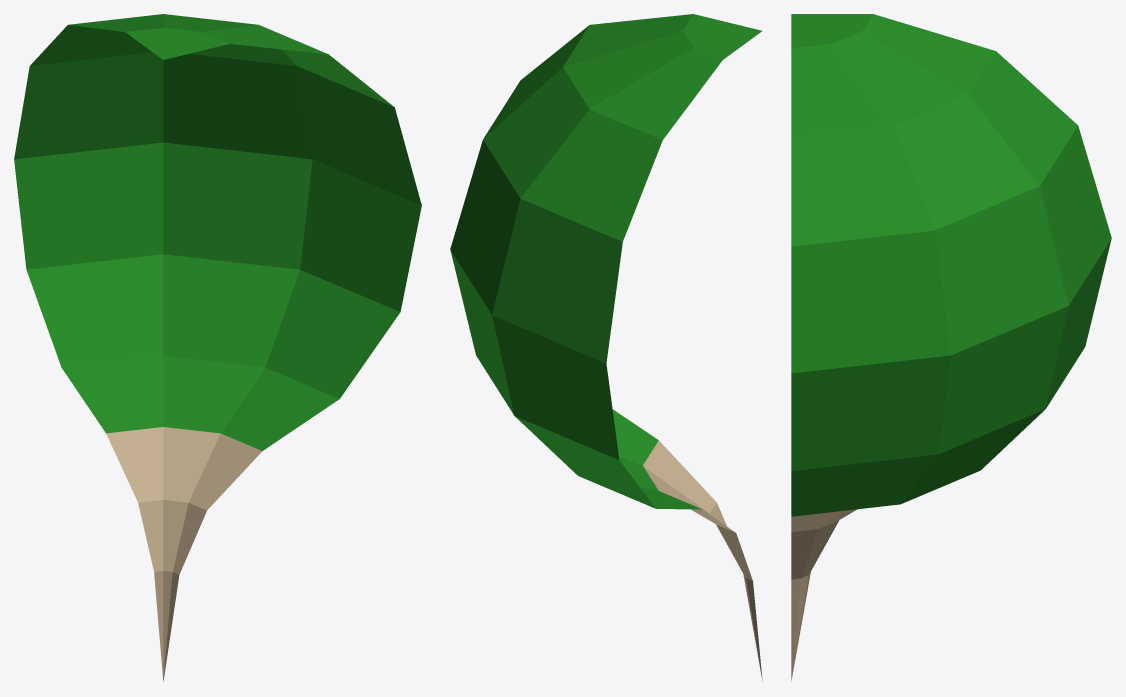
File: Escarpment_Terrain_Corner_Outer_1x1_Top.fbx
The picture shows the model from 3 angles, left to right: view 1: azimuth 30°, elevation 25°; view 2: azimuth 150°, elevation 25°; view 3: azimuth 270°, elevation 25°; orthographic projection. The views are drawn at different scales.
Parts seen in each view (by area): view 1: object1; view 2: object1; view 3: object1.
Boxes of the visible parts, x1,y1,x2,y2 form: object1: [14, 14, 421, 681]; object1: [450, 14, 762, 681]; object1: [791, 14, 1111, 680].
Size of the model in its own units: 0.3909 by 0.9 by 0.3909.
